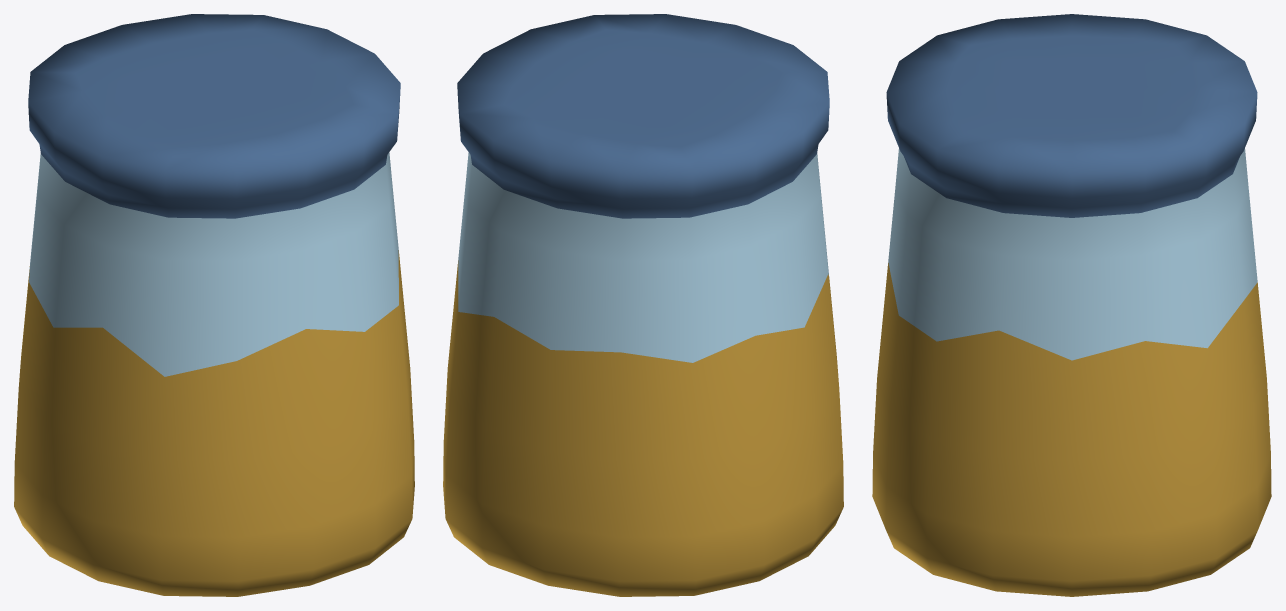
File: Small jar.fbx
3 renders of one model, left to right at view 1: azimuth 30°, elevation 25°; view 2: azimuth 150°, elevation 25°; view 3: azimuth 270°, elevation 25°, orthographic.
Visible parts, largest first — view 1: Small jar; view 2: Small jar; view 3: Small jar.
Boxes of the visible parts, x1,y1,x2,y2 form: Small jar: (14,14,414,596); Small jar: (443,14,843,596); Small jar: (872,14,1271,596).
Bounding box in the file's own units: 11.24 × 13.49 × 11.24.
